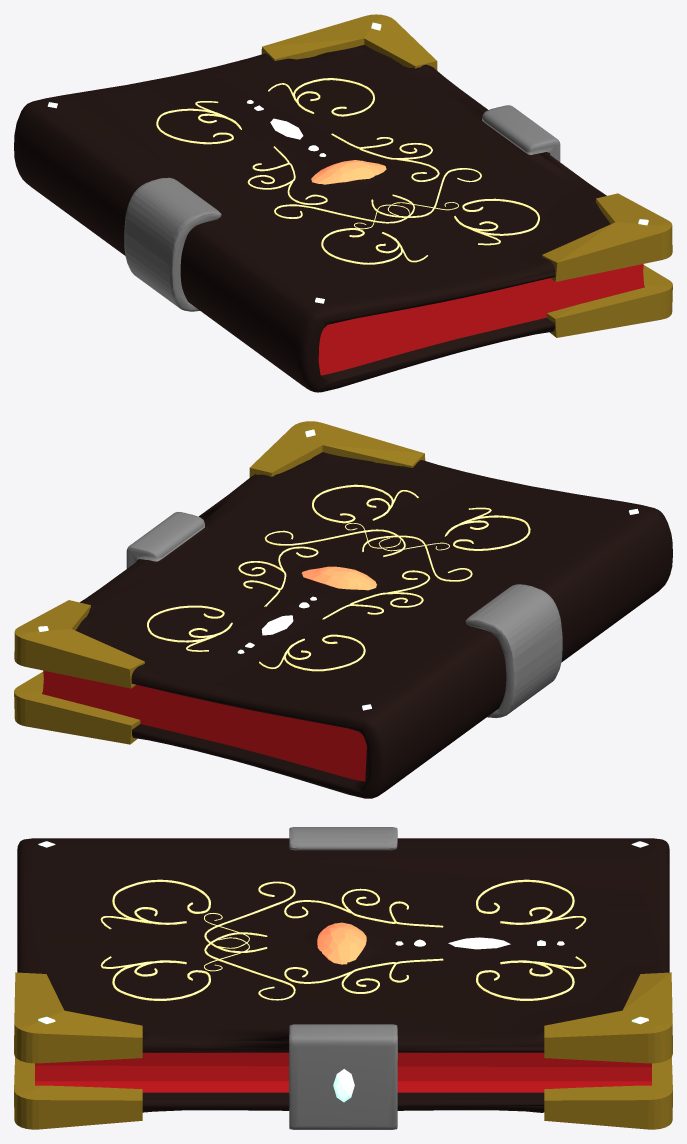
Rendered from Magic_Book.fbx.
3 views of the same model, one above another, from view 1: azimuth 30°, elevation 25°; view 2: azimuth 150°, elevation 25°; view 3: azimuth 270°, elevation 25° (orthographic). The views are drawn at different scales.
Visible parts, largest first — view 1: Magic Book; view 2: Magic Book; view 3: Magic Book.
Part boxes in pixels (box(x1,y1,x2,y2)): Magic Book: box(14, 14, 672, 392); Magic Book: box(14, 421, 672, 798); Magic Book: box(14, 827, 672, 1129).
Size of the model in its own units: 222 by 52.55 by 289.
